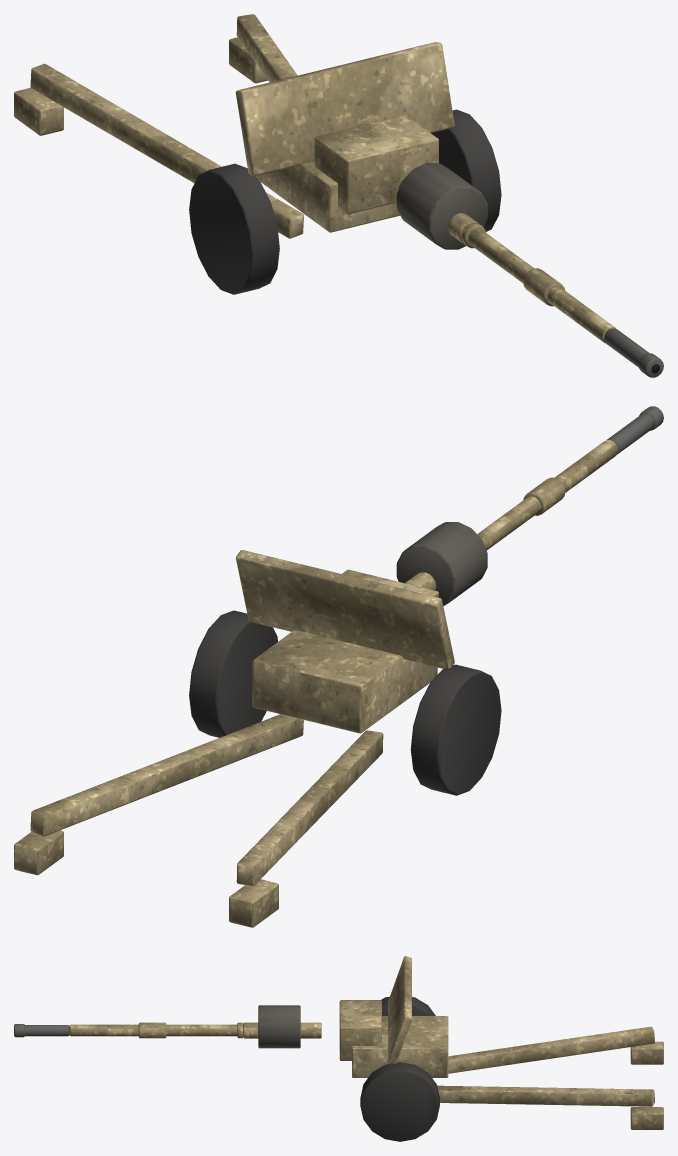
Rendered from art_e4_us_towed_LOD0.glb.
3 renders of one model, top to bottom at view 1: azimuth 30°, elevation 25°; view 2: azimuth 150°, elevation 25°; view 3: azimuth 270°, elevation 25°, orthographic. The views are drawn at different scales.
Visible parts, largest first — view 1: art_e4_us_towed_LOD0_body, art_e4_us_towed_LOD0_track, art_e4_us_towed_LOD0_deck, art_e4_us_towed_LOD0_gun; view 2: art_e4_us_towed_LOD0_body, art_e4_us_towed_LOD0_track, art_e4_us_towed_LOD0_deck, art_e4_us_towed_LOD0_gun; view 3: art_e4_us_towed_LOD0_body, art_e4_us_towed_LOD0_track, art_e4_us_towed_LOD0_deck, art_e4_us_towed_LOD0_gun.
Part boxes in pixels (x1,y1,x2,y2): art_e4_us_towed_LOD0_body: (14,14,616,343); art_e4_us_towed_LOD0_track: (189,109,501,294); art_e4_us_towed_LOD0_deck: (396,163,487,249); art_e4_us_towed_LOD0_gun: (604,328,663,377); art_e4_us_towed_LOD0_body: (14,440,618,927); art_e4_us_towed_LOD0_track: (189,610,501,795); art_e4_us_towed_LOD0_deck: (396,522,487,605); art_e4_us_towed_LOD0_gun: (607,406,663,454); art_e4_us_towed_LOD0_body: (69,956,663,1129); art_e4_us_towed_LOD0_track: (360,996,439,1141); art_e4_us_towed_LOD0_deck: (258,1005,300,1048); art_e4_us_towed_LOD0_gun: (14,1024,69,1037).
Size of the model in its own units: 2.98 by 2.16 by 10.78.
Materials: 5 (1 with a texture image).
